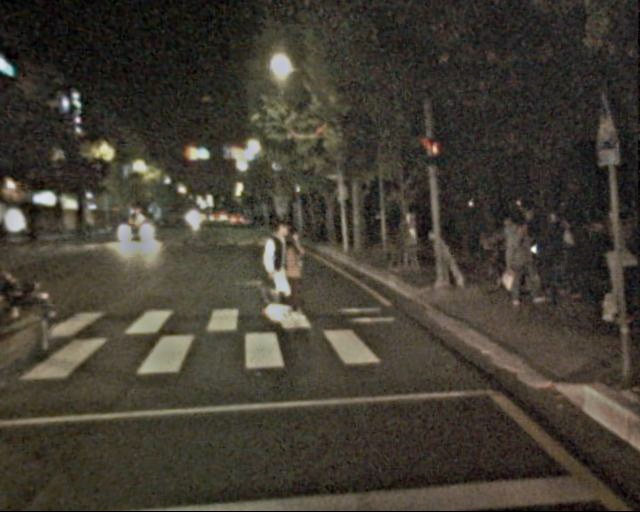person: (497, 210, 544, 298), (258, 220, 299, 320), (596, 231, 637, 330), (539, 212, 579, 310), (267, 227, 306, 322)
